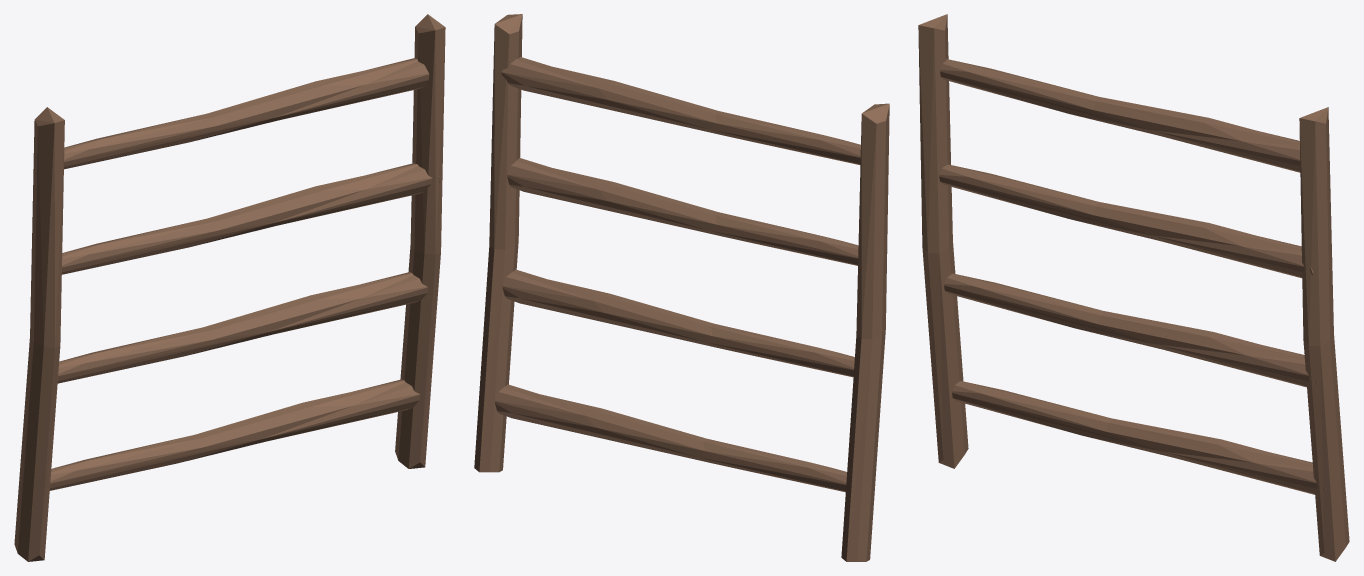
The model's file is 梯子_一楼到水.fbx.
The picture shows the model from 3 angles, left to right: view 1: azimuth 30°, elevation 25°; view 2: azimuth 150°, elevation 25°; view 3: azimuth 330°, elevation 25°; orthographic projection. The views are drawn at different scales.
Parts seen in each view (by area): view 1: Fence4; view 2: Fence4; view 3: Fence4.
Boxes of the visible parts, left/top/right/bottom form: Fence4: left=14, top=14, right=445, bottom=561; Fence4: left=474, top=14, right=889, bottom=561; Fence4: left=918, top=14, right=1349, bottom=561.
Size of the model in its own units: 221 by 240 by 37.82.
